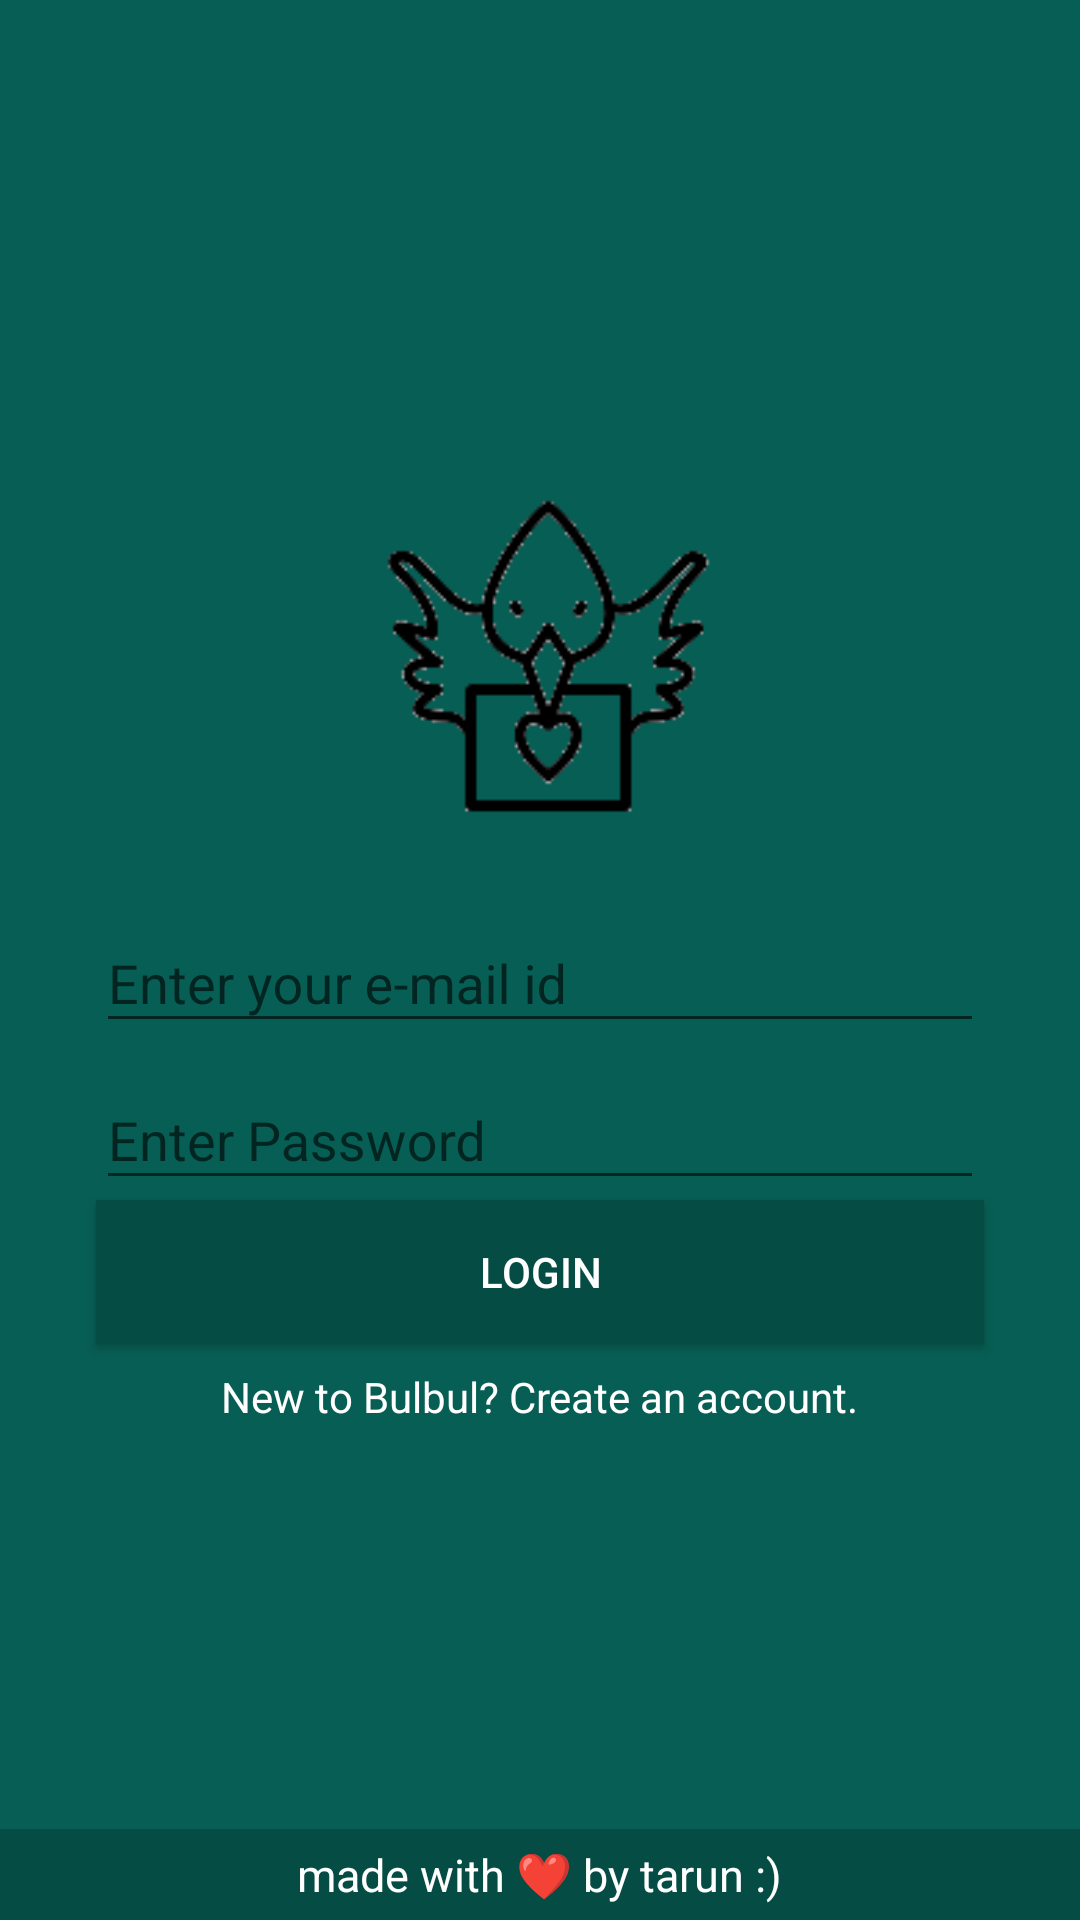

Icons on this 1080px x 1920px Android screen, each with its box as (left=x1, top=y1, right=x2, bottom=y2):
bulbul: (left=387, top=501, right=710, bottom=812)
